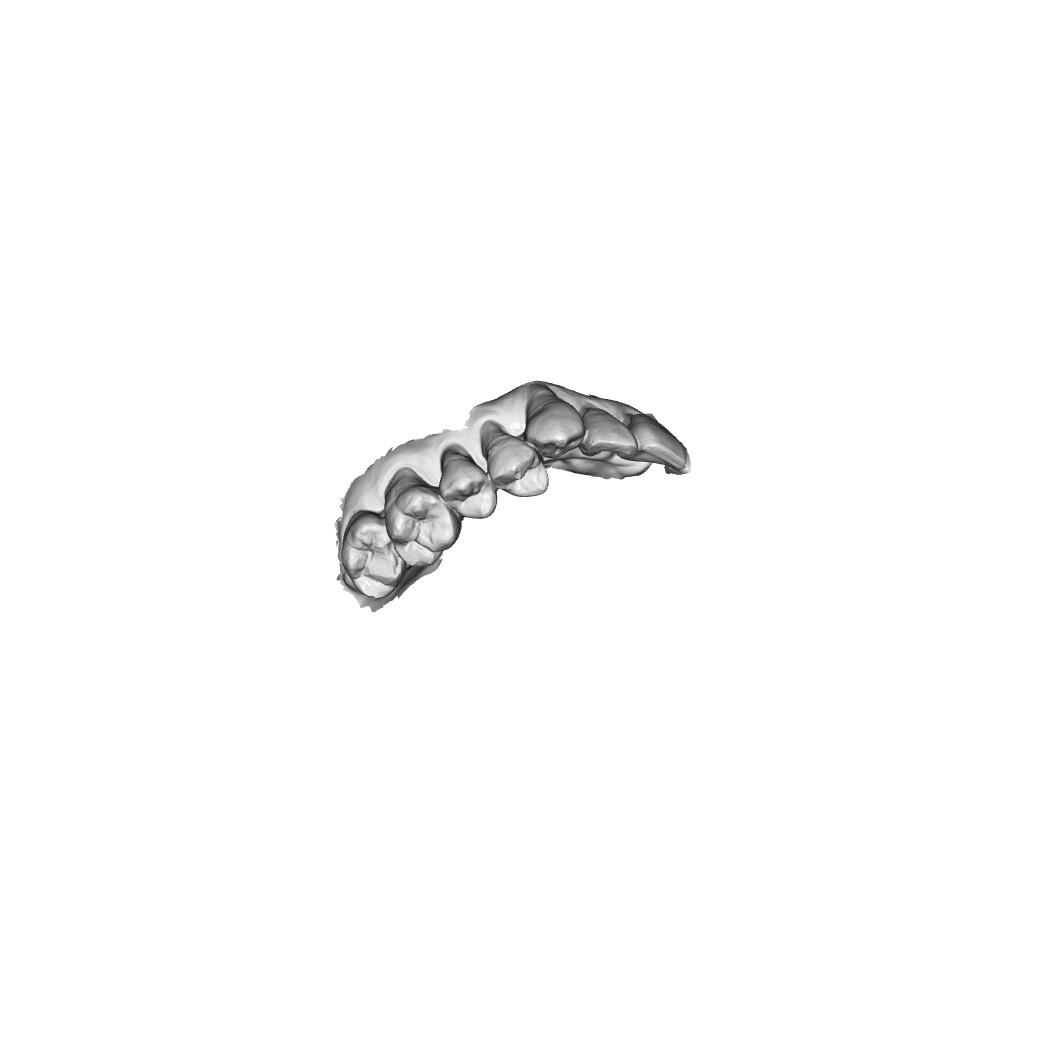canine: (527, 387, 587, 461)
incisor: (578, 404, 640, 466), (631, 410, 685, 477)
molar: (339, 515, 409, 602), (391, 487, 459, 567)
premolar: (488, 438, 549, 504), (443, 459, 501, 522)
